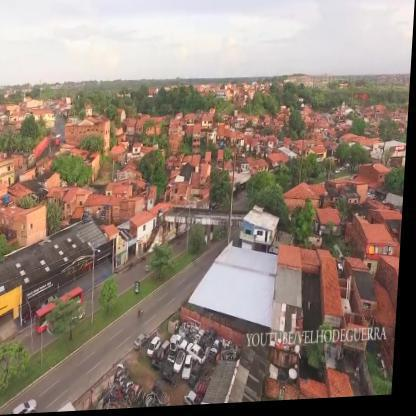lixo: (155, 320, 224, 373), (108, 380, 161, 410)
